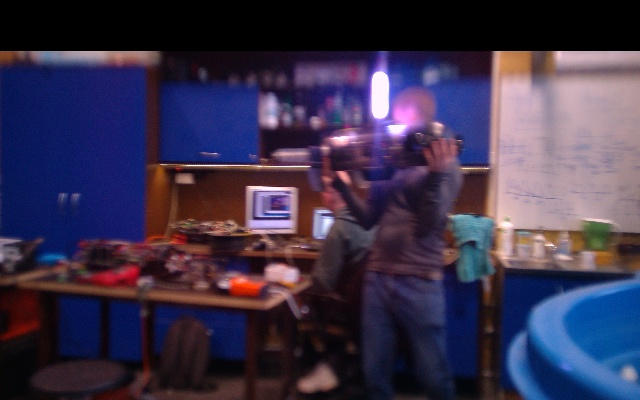white: (370, 70, 390, 120)
